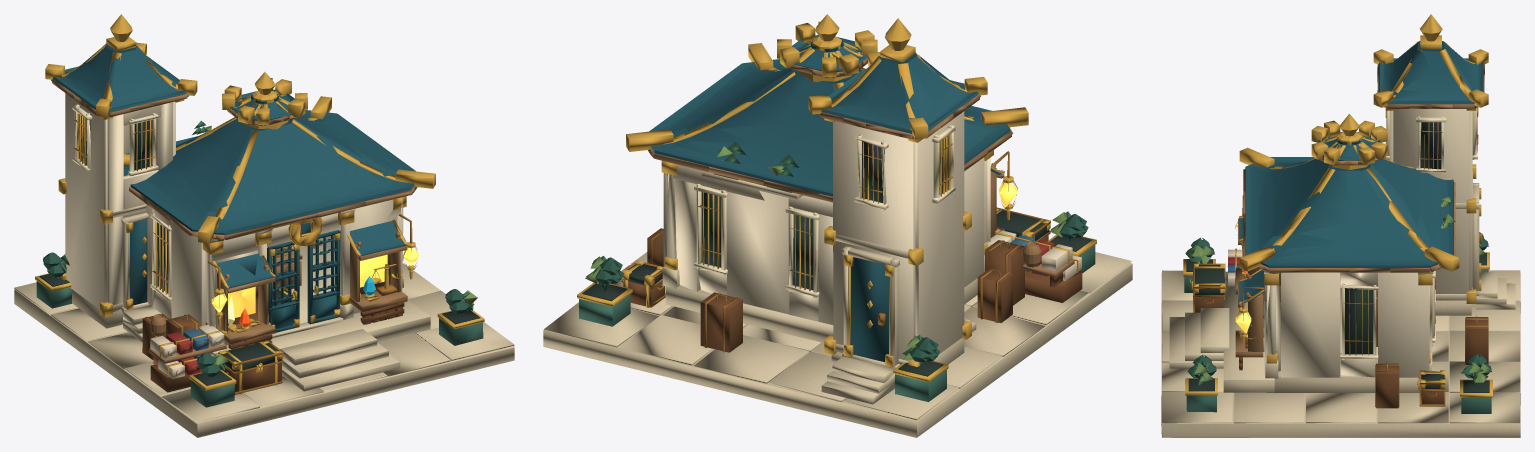
Rendered from treasure-lod2-bdf2f7e13479.glb.
3 views of the same model, side by side, from view 1: azimuth 30°, elevation 25°; view 2: azimuth 150°, elevation 25°; view 3: azimuth 270°, elevation 25° (orthographic). The views are drawn at different scales.
Parts seen in each view (by area): view 1: RFbatch_0.026, RFbatch_36.026, RFbatch_9.026, RFbatch_39.026, RFbatch_12.026, RFbatch_41.026, RFbatch_48.026, RFbatch_61.026, RFbatch_75.026, RFbatch_20.026, RFbatch_50.026, RFbatch_40.026 (+4 smaller); view 2: RFbatch_0.026, RFbatch_9.026, RFbatch_36.026, RFbatch_39.026, RFbatch_48.026, RFbatch_61.026, RFbatch_20.026, RFbatch_12.026, RFbatch_41.026, RFbatch_75.026, RFbatch_40.026, RFbatch_92.015 (+3 smaller); view 3: RFbatch_0.026, RFbatch_36.026, RFbatch_9.026, RFbatch_39.026, RFbatch_61.026, RFbatch_12.026, RFbatch_48.026, RFbatch_20.026, RFbatch_40.026, RFbatch_75.026, RFbatch_79.022, RFbatch_92.015.
Part boxes in pixels (x1=…): RFbatch_0.026: x1=14, y1=204, x2=514, y2=437; RFbatch_36.026: x1=53, y1=46, x2=415, y2=288; RFbatch_9.026: x1=65, y1=93, x2=403, y2=344; RFbatch_39.026: x1=35, y1=14, x2=484, y2=393; RFbatch_12.026: x1=51, y1=79, x2=417, y2=375; RFbatch_41.026: x1=130, y1=219, x2=340, y2=332; RFbatch_48.026: x1=142, y1=248, x2=404, y2=392; RFbatch_61.026: x1=39, y1=114, x2=480, y2=385; RFbatch_75.026: x1=36, y1=281, x2=483, y2=407; RFbatch_20.026: x1=72, y1=104, x2=171, y2=301; RFbatch_50.026: x1=211, y1=247, x2=418, y2=317; RFbatch_40.026: x1=74, y1=120, x2=412, y2=394; RFbatch_0.026: x1=543, y1=170, x2=1132, y2=437; RFbatch_9.026: x1=663, y1=111, x2=990, y2=360; RFbatch_36.026: x1=649, y1=35, x2=1010, y2=196; RFbatch_39.026: x1=577, y1=14, x2=1096, y2=382; RFbatch_48.026: x1=623, y1=228, x2=1082, y2=352; RFbatch_61.026: x1=582, y1=136, x2=1091, y2=376; RFbatch_20.026: x1=694, y1=125, x2=955, y2=297; RFbatch_12.026: x1=647, y1=58, x2=1074, y2=301; RFbatch_41.026: x1=851, y1=257, x2=888, y2=362; RFbatch_75.026: x1=579, y1=173, x2=1095, y2=401; RFbatch_40.026: x1=621, y1=143, x2=1050, y2=352; RFbatch_92.015: x1=595, y1=214, x2=1088, y2=366; RFbatch_0.026: x1=1161, y1=171, x2=1520, y2=437; RFbatch_36.026: x1=1239, y1=42, x2=1483, y2=303; RFbatch_9.026: x1=1263, y1=109, x2=1472, y2=377; RFbatch_39.026: x1=1183, y1=14, x2=1492, y2=403; RFbatch_61.026: x1=1186, y1=122, x2=1489, y2=392; RFbatch_12.026: x1=1227, y1=64, x2=1484, y2=370; RFbatch_48.026: x1=1195, y1=272, x2=1488, y2=408; RFbatch_20.026: x1=1340, y1=108, x2=1477, y2=359; RFbatch_40.026: x1=1193, y1=108, x2=1488, y2=407; RFbatch_75.026: x1=1184, y1=269, x2=1491, y2=413; RFbatch_79.022: x1=1190, y1=196, x2=1491, y2=382; RFbatch_92.015: x1=1185, y1=224, x2=1491, y2=386.
Bounding box in the file's own units: 10 × 9.27 × 9.99.
23 materials, 14 textured.
